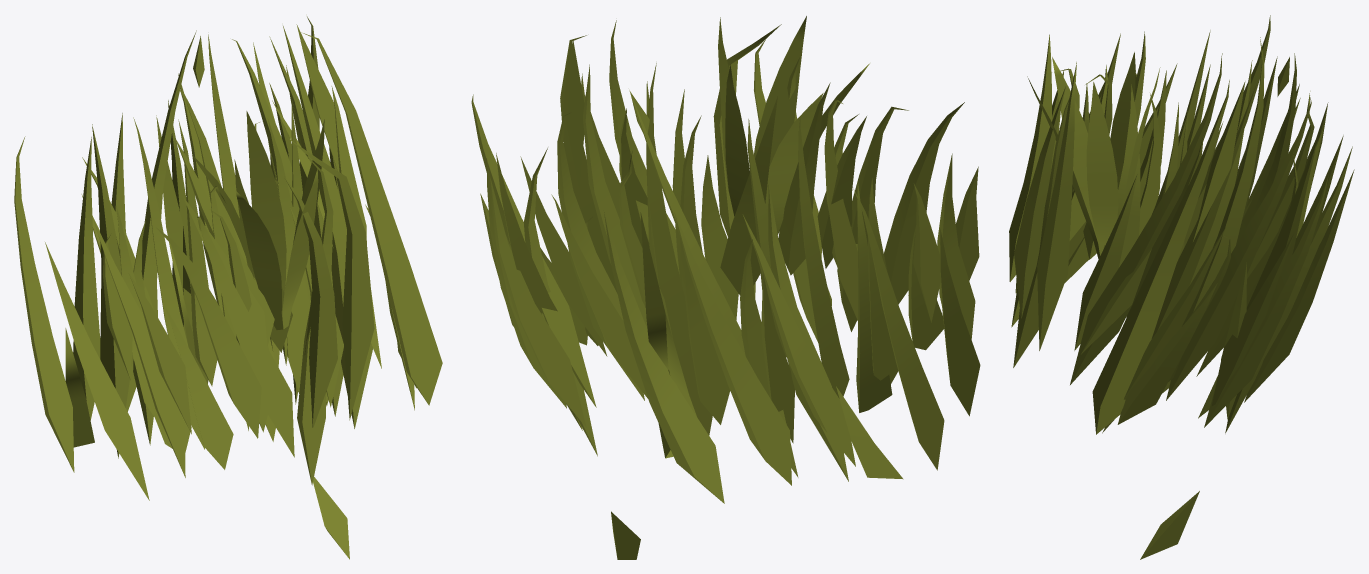
The model's file is grass_patch.glb.
3 renders of one model, left to right at view 1: azimuth 30°, elevation 25°; view 2: azimuth 150°, elevation 25°; view 3: azimuth 270°, elevation 25°, orthographic. The views are drawn at different scales.
Visible parts, largest first — view 1: Grasspatch, Single_grass; view 2: Grasspatch, Single_grass; view 3: Grasspatch, Single_grass.
Part boxes in pixels (bbox=[...]): Grasspatch: bbox=[14, 16, 442, 559]; Single_grass: bbox=[192, 111, 324, 329]; Grasspatch: bbox=[471, 20, 980, 559]; Single_grass: bbox=[718, 16, 869, 234]; Grasspatch: bbox=[1009, 15, 1354, 559]; Single_grass: bbox=[1027, 52, 1160, 259].
Size of the model in its own units: 0.618 by 0.8344 by 0.5274.
